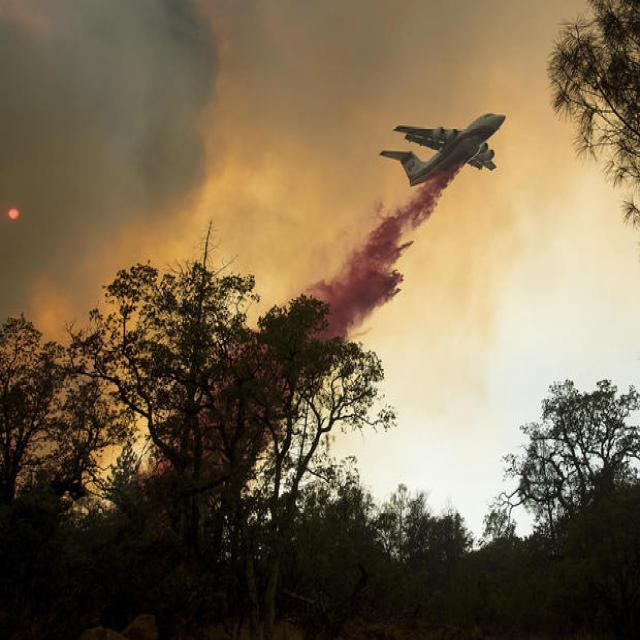Smoke: (0, 0, 227, 413)
